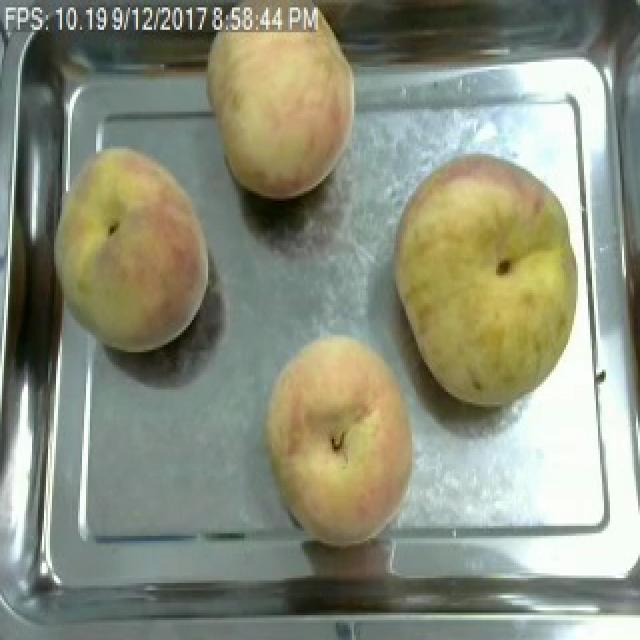Fruit: (382, 146, 594, 417), (40, 134, 220, 362), (254, 327, 426, 551), (202, 32, 366, 206)
